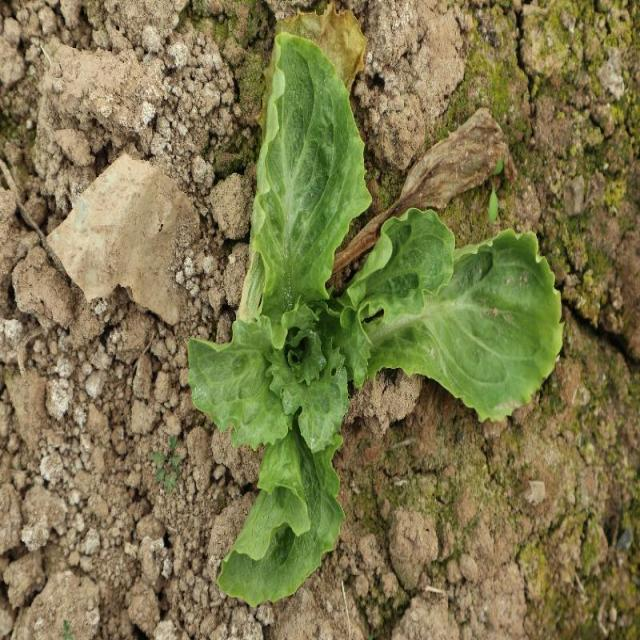crop: (189, 34, 562, 608)
